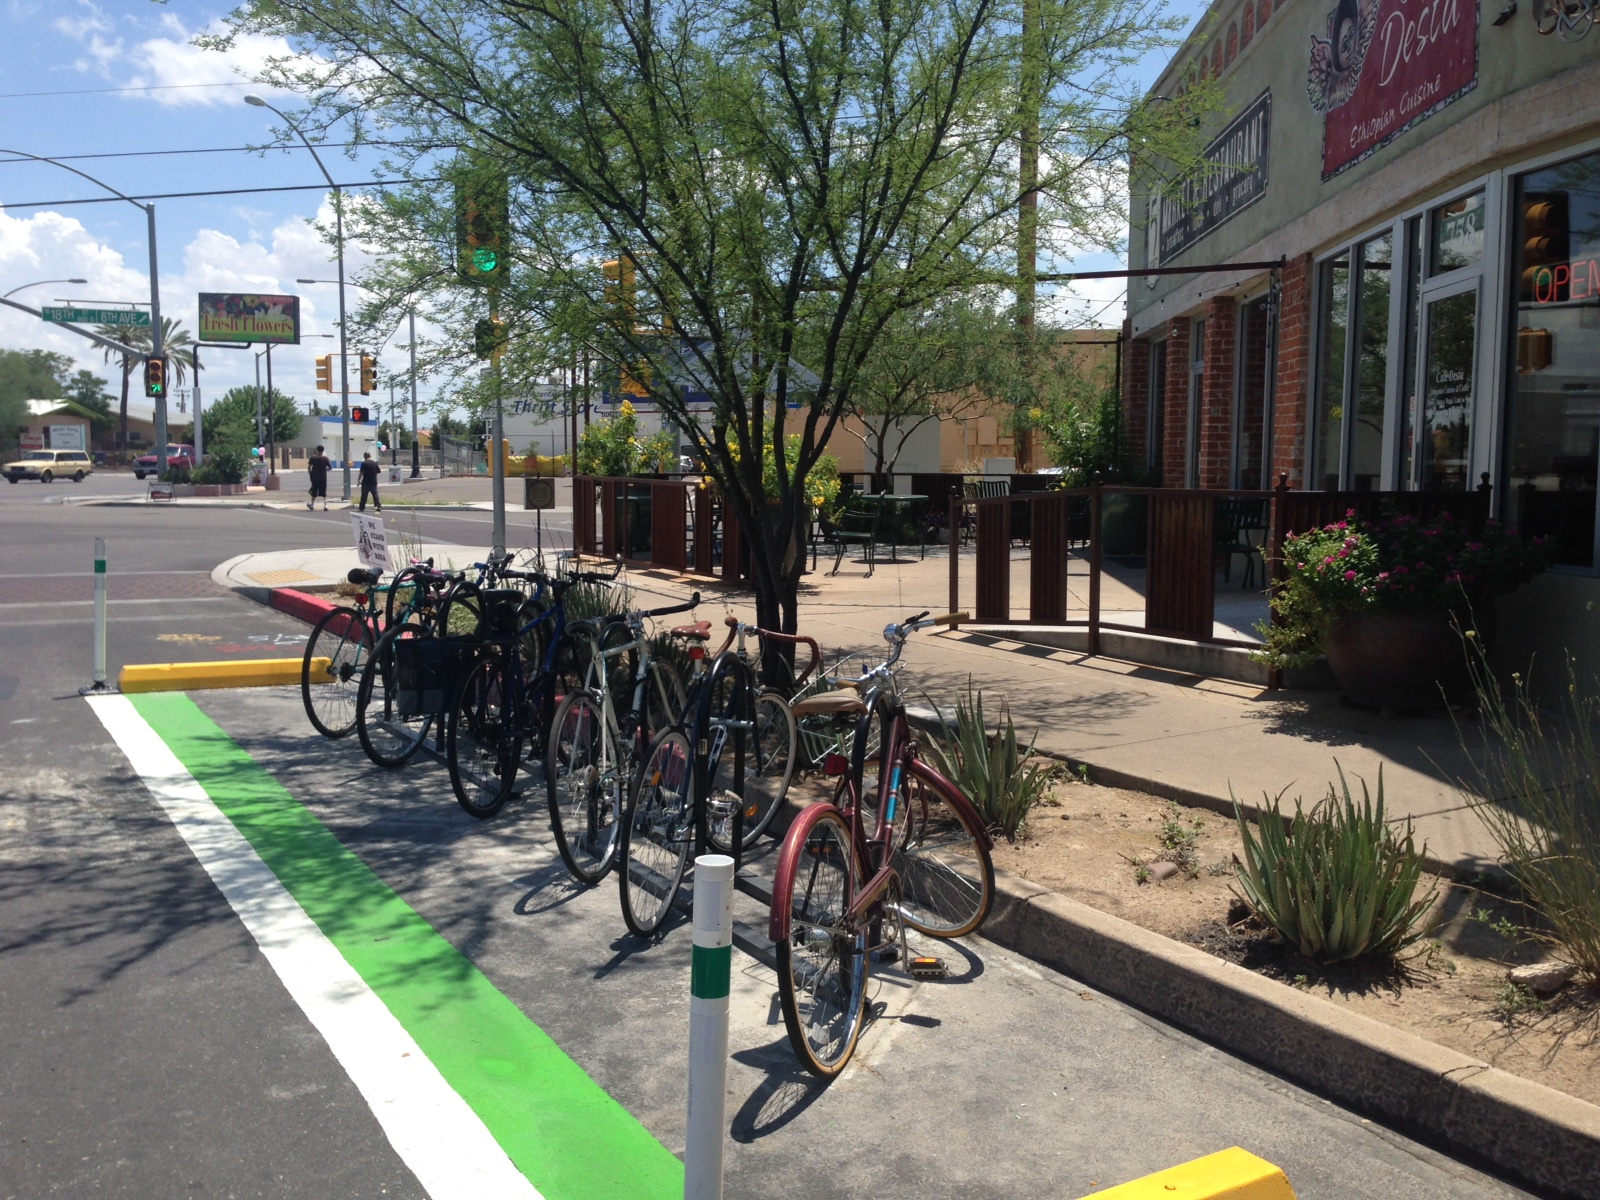bike: (760, 626, 1028, 1121)
